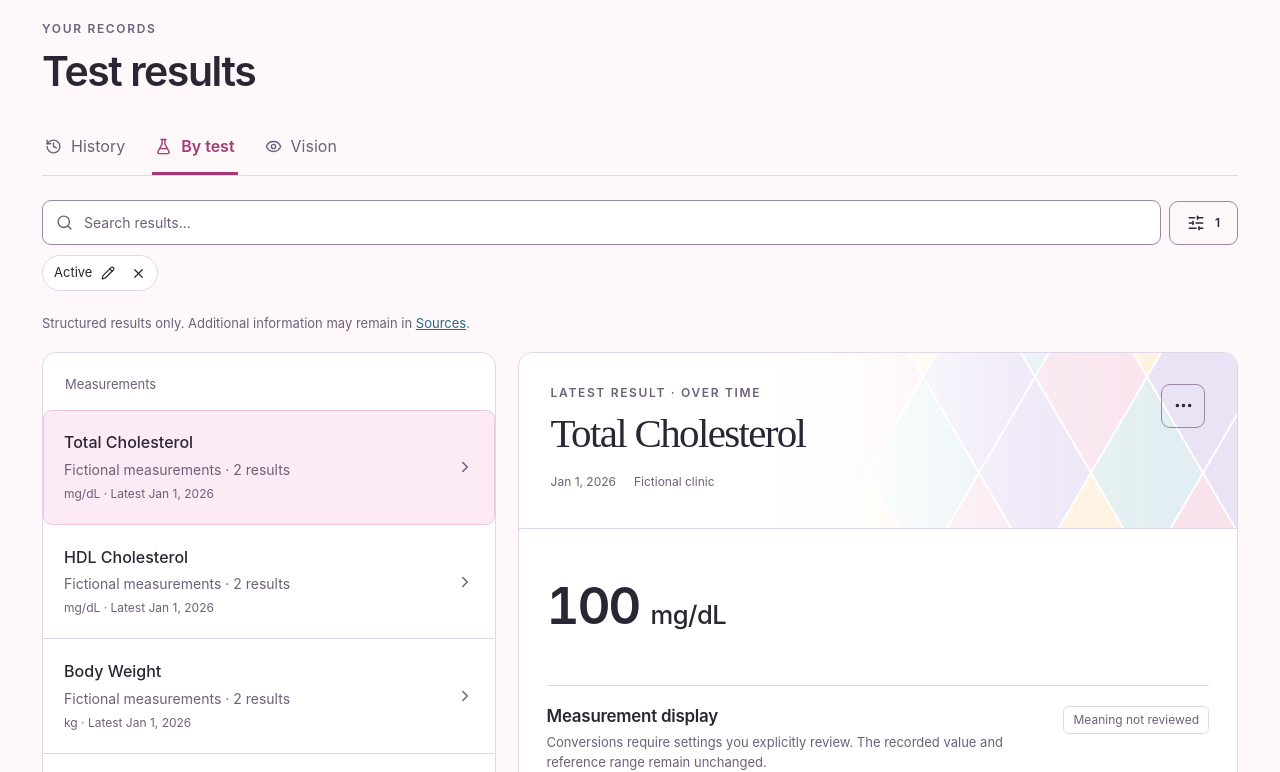
Test: the by-test detail keeps its sole person-change action
This screenshot has width=1280, height=772.
expect the heading "Total Cholesterol" is shown: met, box [551,411,805,457]
Click the button named "More entry actions" at (1183, 406), box [1161,384,1205,428]
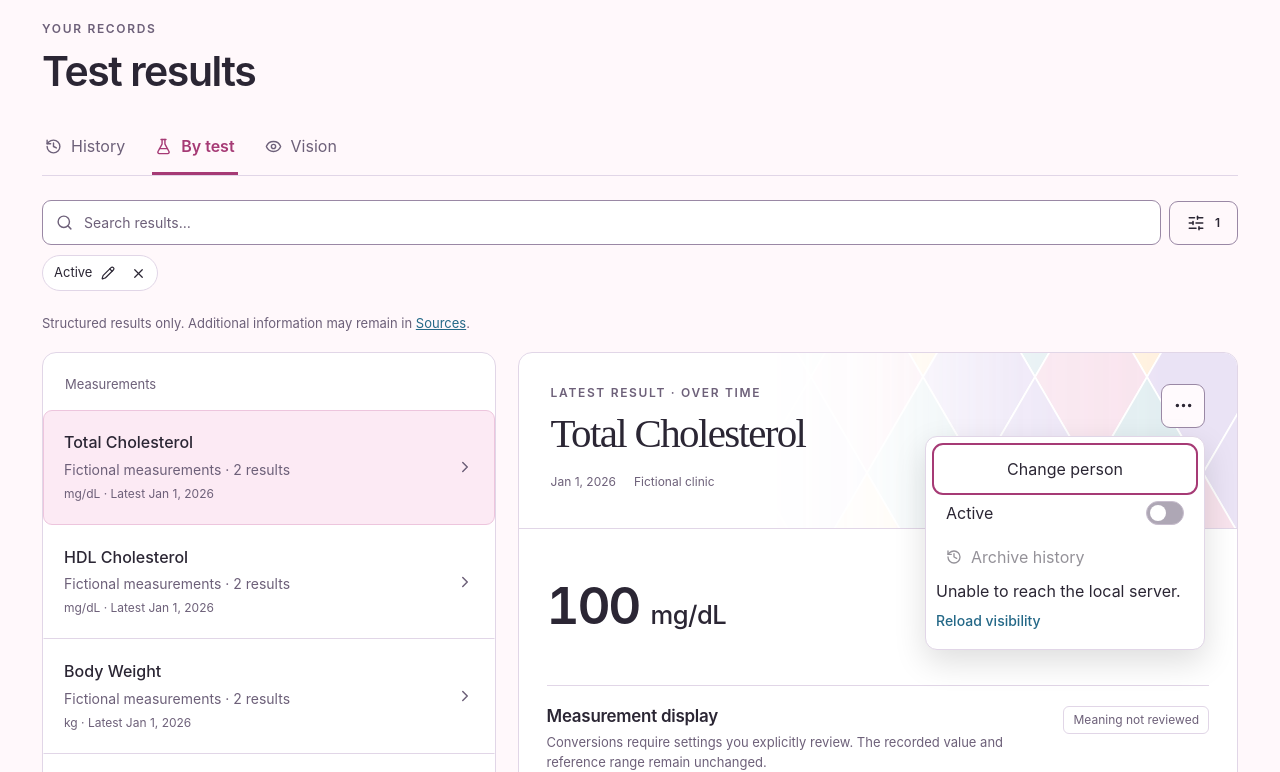
expect the number of buttons "Change person" is 1: met, box [936,447,1194,491]
